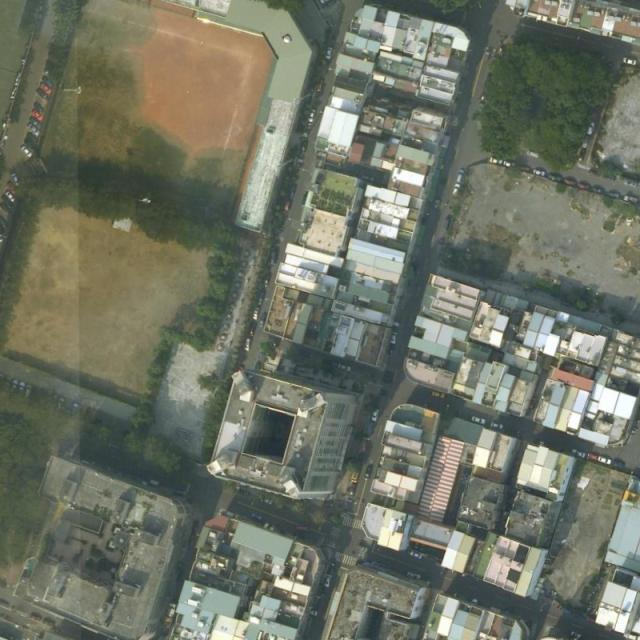vehicle: (28, 114, 44, 130), (26, 122, 42, 138), (42, 75, 56, 91), (1, 193, 14, 210), (35, 87, 50, 101), (6, 179, 19, 195), (67, 402, 80, 418), (39, 81, 54, 94), (598, 454, 614, 466), (21, 145, 34, 159), (42, 619, 58, 630), (33, 102, 47, 114), (547, 172, 562, 183), (406, 570, 421, 581), (455, 169, 466, 184), (606, 190, 622, 200), (337, 362, 353, 372), (32, 109, 44, 122), (1, 202, 12, 216), (55, 397, 66, 411), (623, 194, 638, 204), (5, 190, 17, 202), (518, 165, 534, 174), (622, 178, 638, 187), (621, 57, 637, 66), (29, 612, 42, 623), (563, 176, 576, 187), (592, 185, 605, 196), (23, 385, 33, 399), (1, 214, 10, 229), (472, 417, 487, 426), (12, 173, 22, 186), (259, 313, 267, 329), (258, 290, 266, 306), (270, 249, 278, 265), (570, 631, 584, 640), (587, 122, 596, 136), (410, 550, 424, 559), (390, 331, 399, 345), (443, 218, 452, 232), (259, 496, 273, 505), (489, 158, 504, 166), (365, 466, 373, 481), (430, 390, 445, 398), (527, 150, 540, 159), (577, 182, 590, 191), (252, 307, 261, 320), (578, 148, 586, 162), (244, 338, 252, 352), (574, 450, 588, 458), (454, 183, 462, 197), (349, 482, 356, 498), (432, 198, 441, 210), (533, 169, 545, 178), (248, 322, 257, 334), (586, 452, 598, 461), (504, 161, 517, 169), (308, 110, 316, 123), (1, 598, 10, 609), (325, 574, 332, 588), (326, 46, 334, 58), (371, 410, 379, 422), (490, 422, 503, 429), (1, 232, 6, 242), (638, 201, 640, 206), (638, 637, 640, 640)
